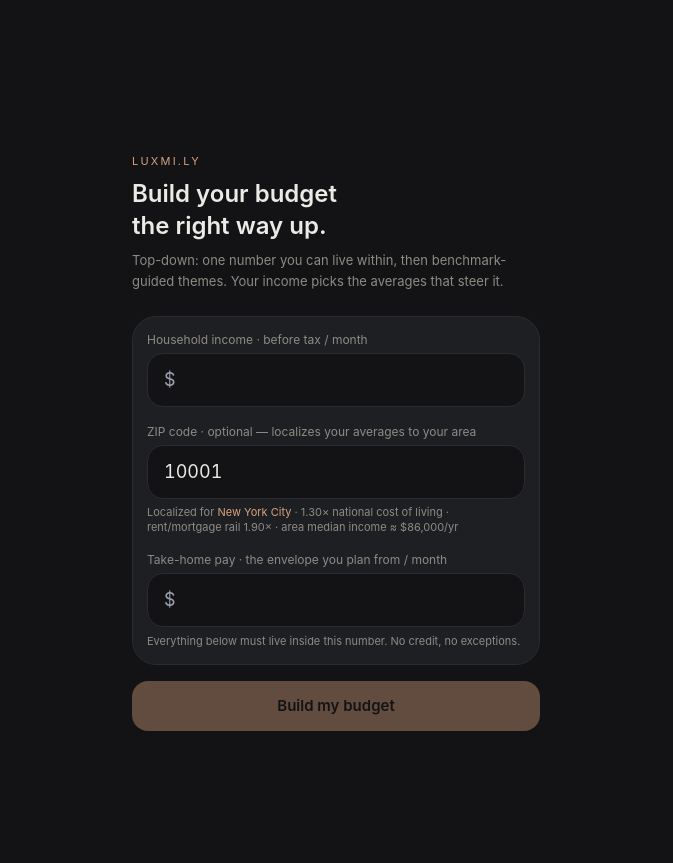
Test: App — an optimizer, not a tracker › goes over cap — not over theme — and never rewrites the plan
In the number field named "Household income before tax per month": point(336, 380) [147, 353, 525, 407], type "10000"
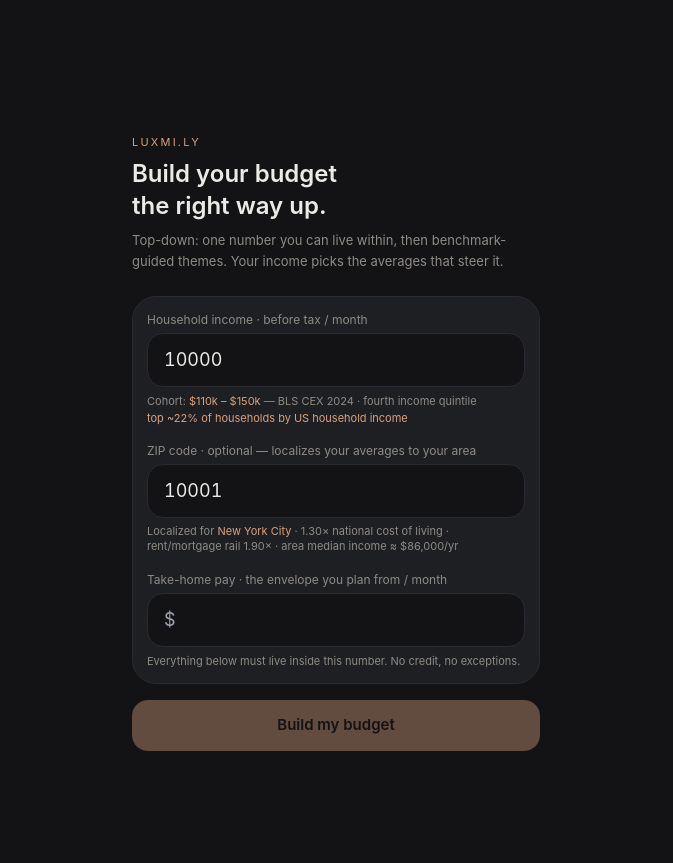
In the number field named "Take-home pay per month": point(336, 620) [147, 592, 525, 646], type "6800"
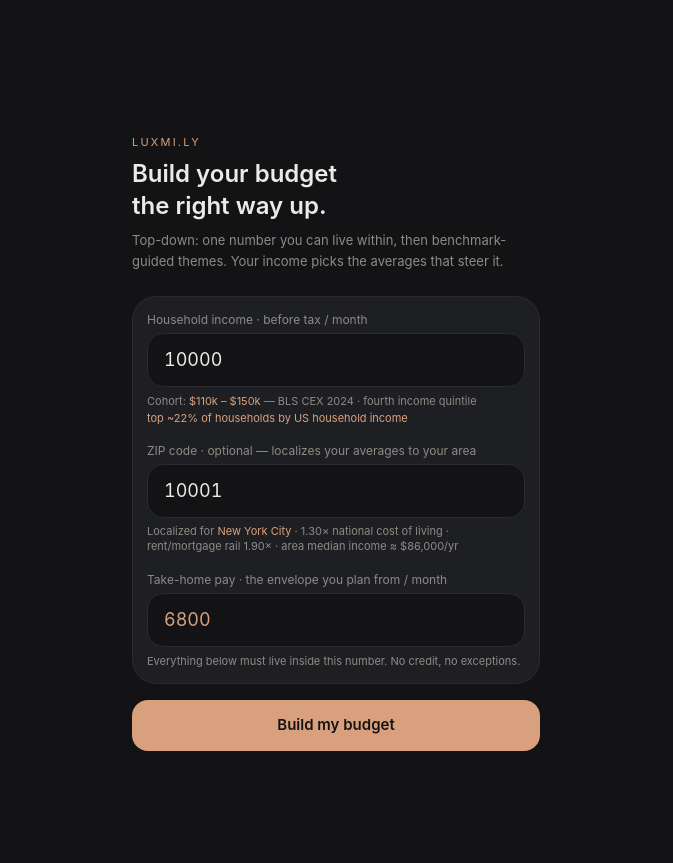
Click the button "Build my budget": point(336, 725) [132, 700, 540, 750]
(page scrolled)
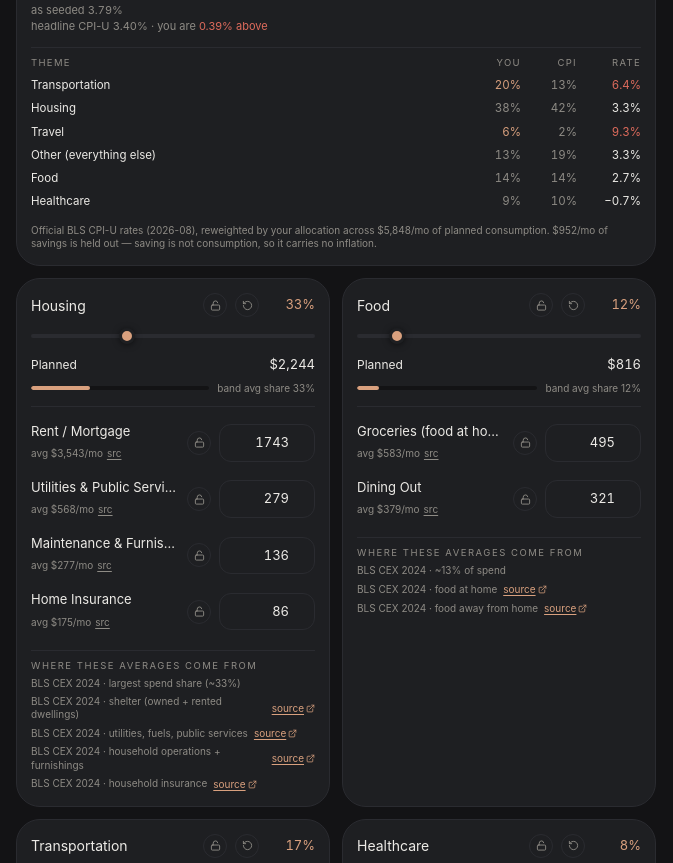
Replace the text in the number field named "Groceries (food at home) plan" with "12000": point(593, 443) [545, 424, 641, 462]
(page scrolled)
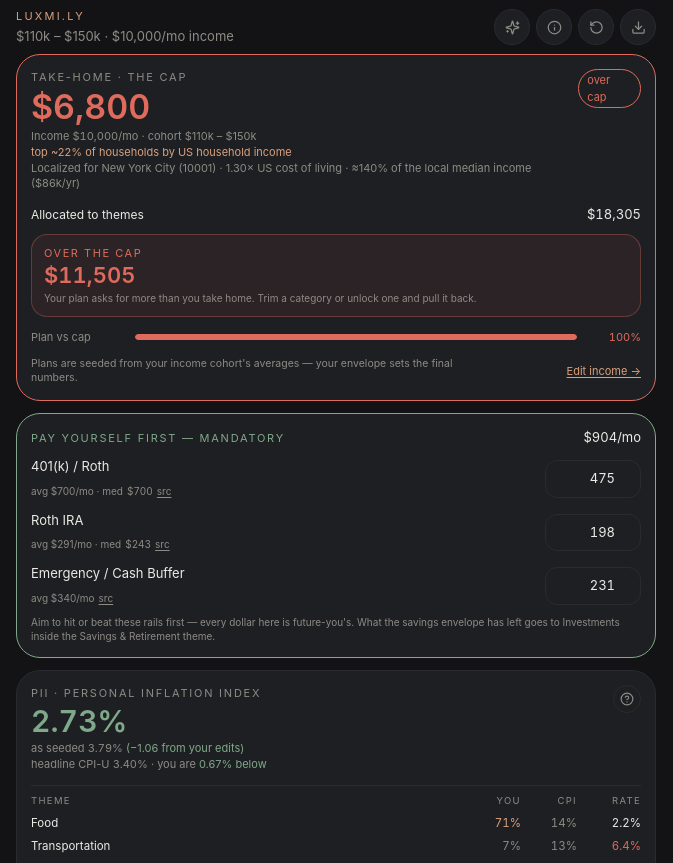
Expected: the text "Over the cap" is shown, [44, 245, 142, 262]
Expected: the text "asks for more than you take home" is shown, [44, 292, 477, 304]
